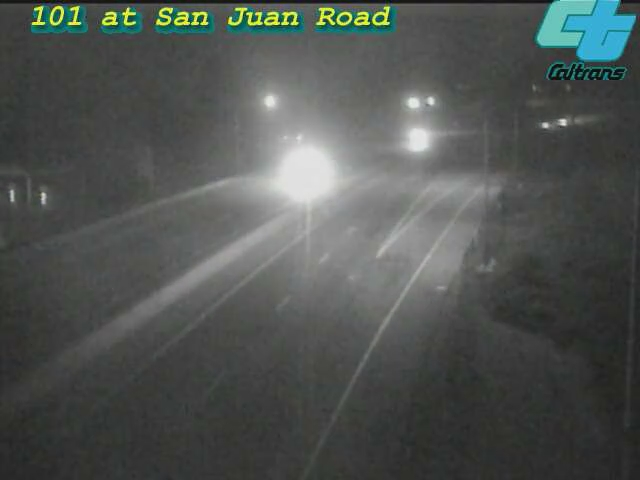vehicle: (280, 130, 360, 210), (394, 116, 444, 166), (544, 96, 594, 146), (519, 101, 569, 151)
